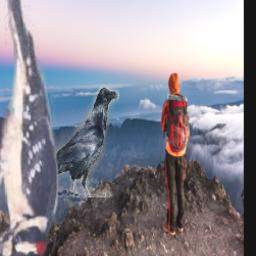Crow: (32, 88, 119, 199)
Woodpecker: (0, 0, 62, 256)
